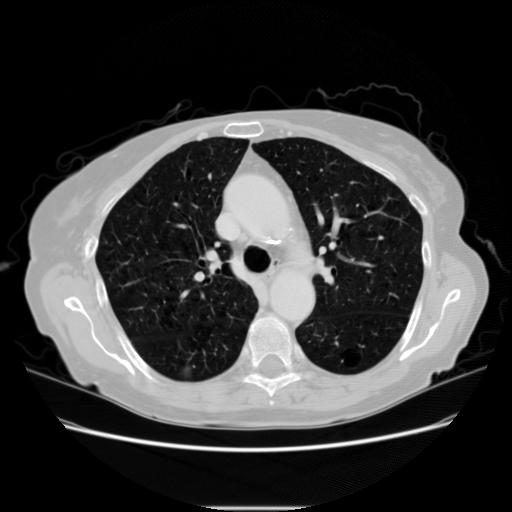nodule: (178, 362, 195, 379)
